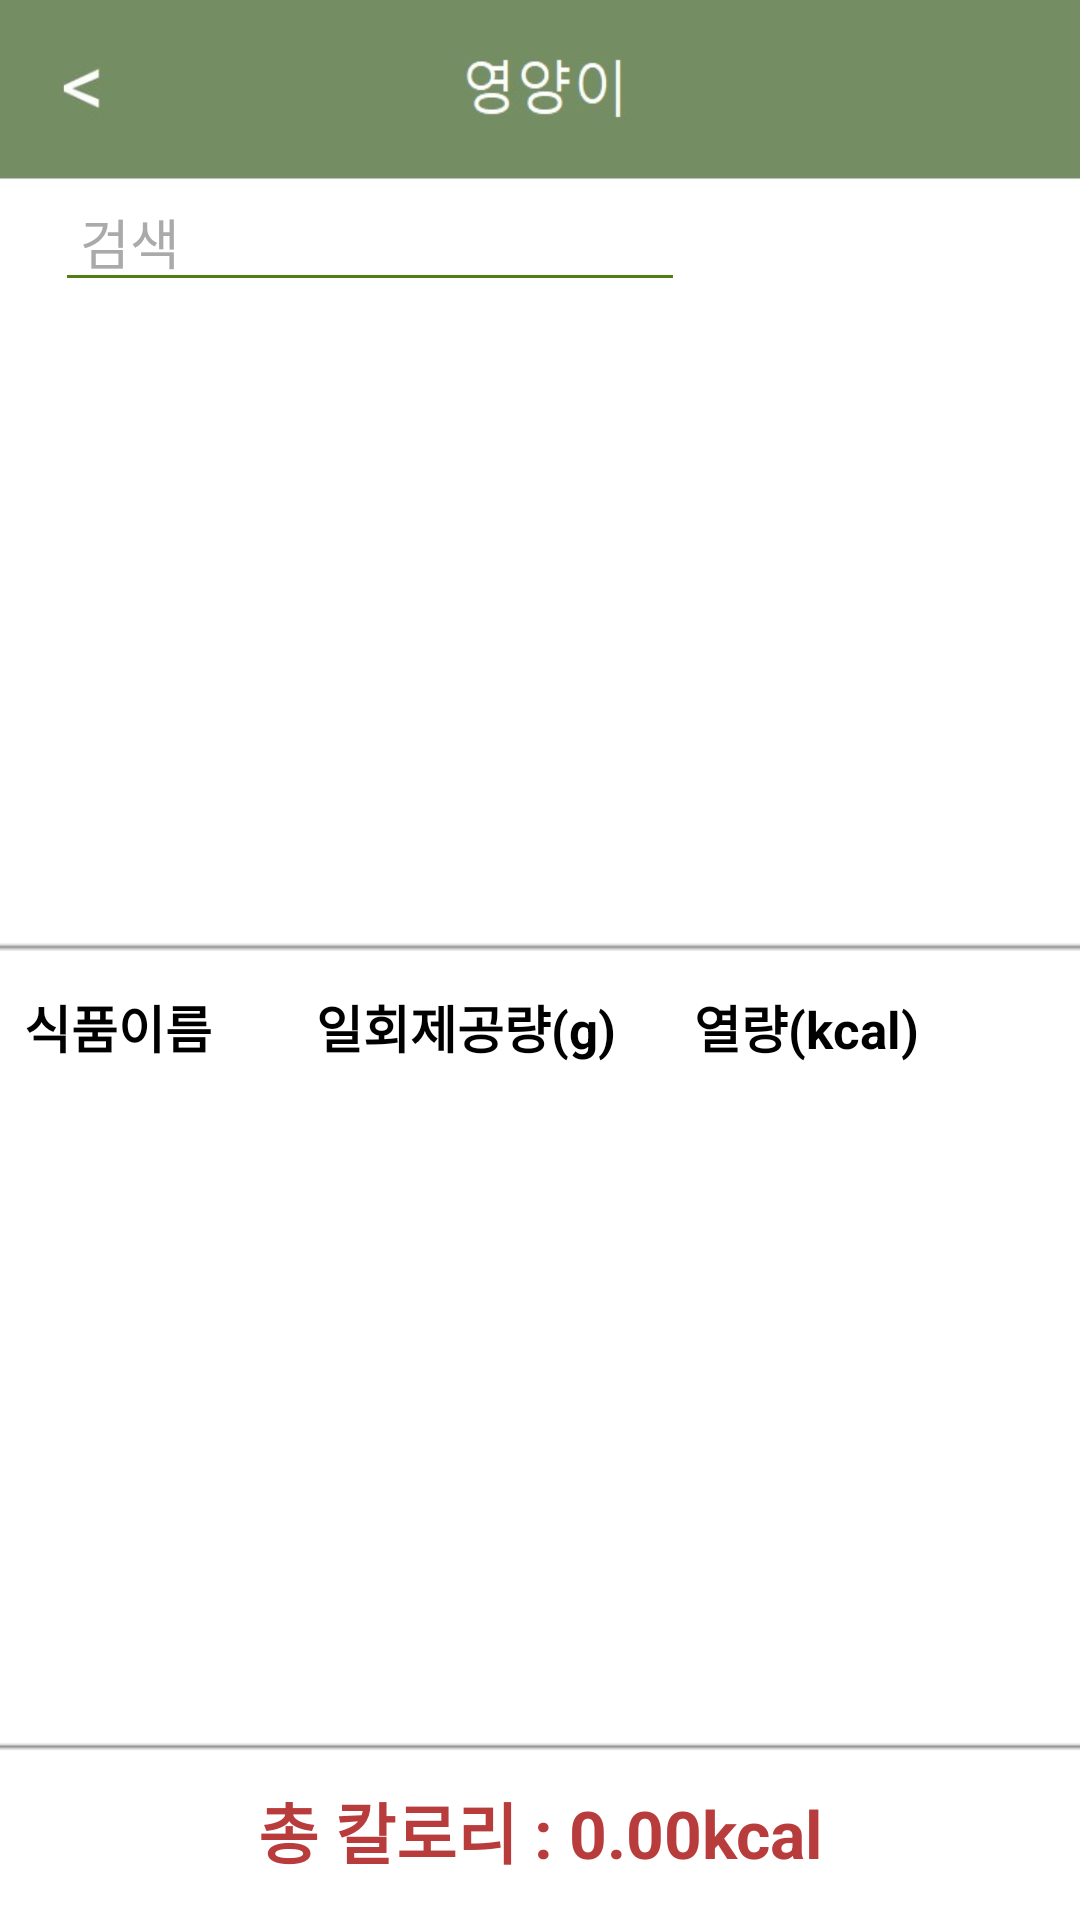

Screen size 1080w x 1920h. Icon name, then its center in pixels as point (x, y):
backimage: point (81, 88)
